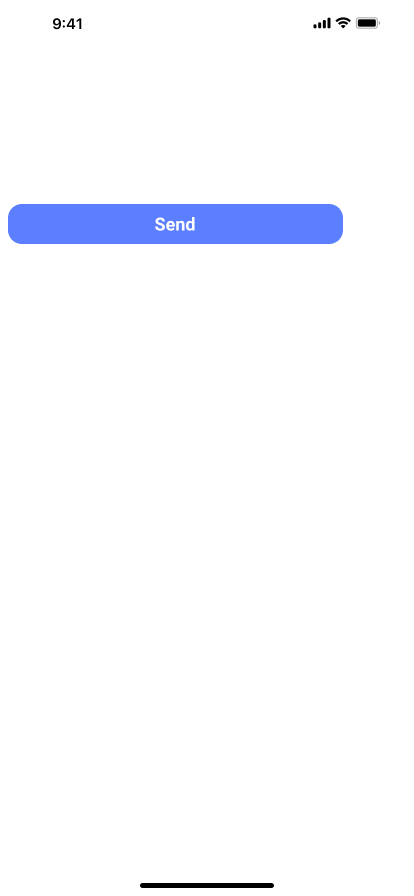Buttons: (8, 204, 343, 244)
Home Indicator: (0, 862, 414, 896)
Status Bar: (0, 0, 414, 44)
